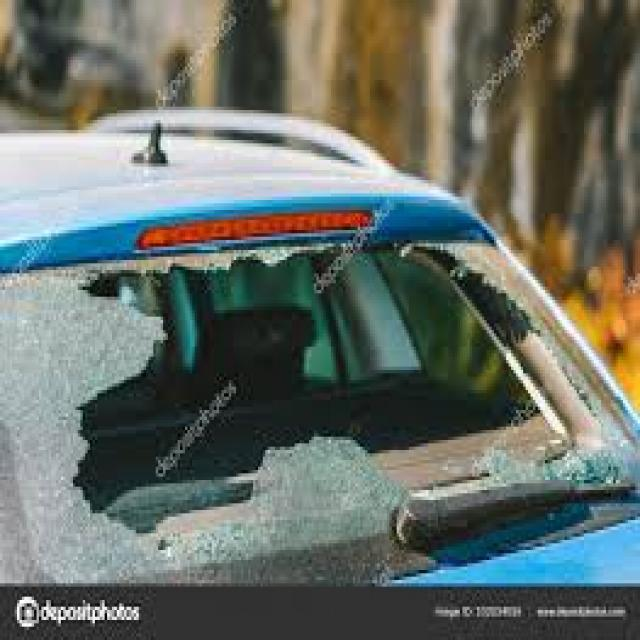damaged-rear-window: (0, 227, 637, 582)
